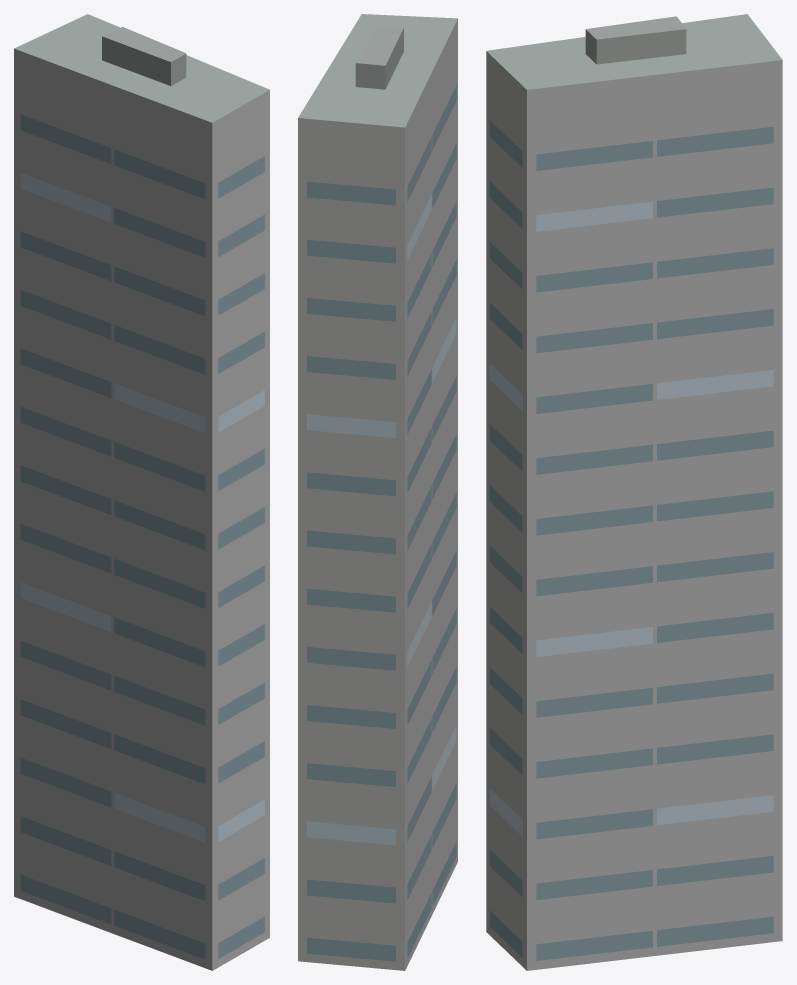
Rendered from fallback-jamsil-ricenz-238.glb.
3 renders of one model, left to right at view 1: azimuth 30°, elevation 25°; view 2: azimuth 150°, elevation 25°; view 3: azimuth 270°, elevation 25°, orthographic. The views are drawn at different scales.
Parts seen in each view (by area): view 1: fallback-jamsil-ricenz-238; view 2: fallback-jamsil-ricenz-238; view 3: fallback-jamsil-ricenz-238.
Boxes of the visible parts, box(x1,y1,x2,y2) form: fallback-jamsil-ricenz-238: box(14, 14, 269, 970); fallback-jamsil-ricenz-238: box(298, 14, 457, 970); fallback-jamsil-ricenz-238: box(486, 14, 782, 970).
Bounding box in the file's own units: 15.64 × 87 × 25.81.
